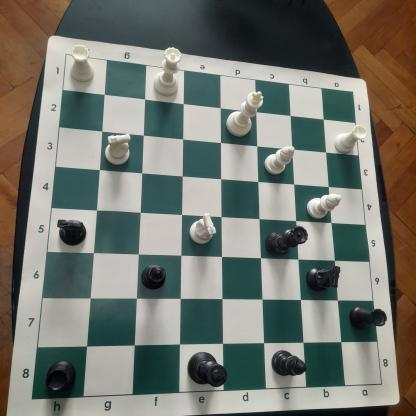black-bishop: (270, 348, 307, 381), (140, 261, 169, 293)
black-king: (186, 348, 229, 390)
black-knight: (303, 262, 343, 294), (53, 216, 90, 249)
black-queen: (262, 223, 309, 258)
black-rook: (347, 302, 390, 333), (43, 358, 77, 394)
white-bishop: (305, 190, 343, 222), (263, 145, 296, 179)
white-king: (225, 90, 264, 140)
white-knight: (101, 131, 133, 167), (188, 212, 218, 248)
white-queen: (151, 45, 183, 98)
white-rook: (332, 121, 368, 155), (68, 43, 96, 83)
